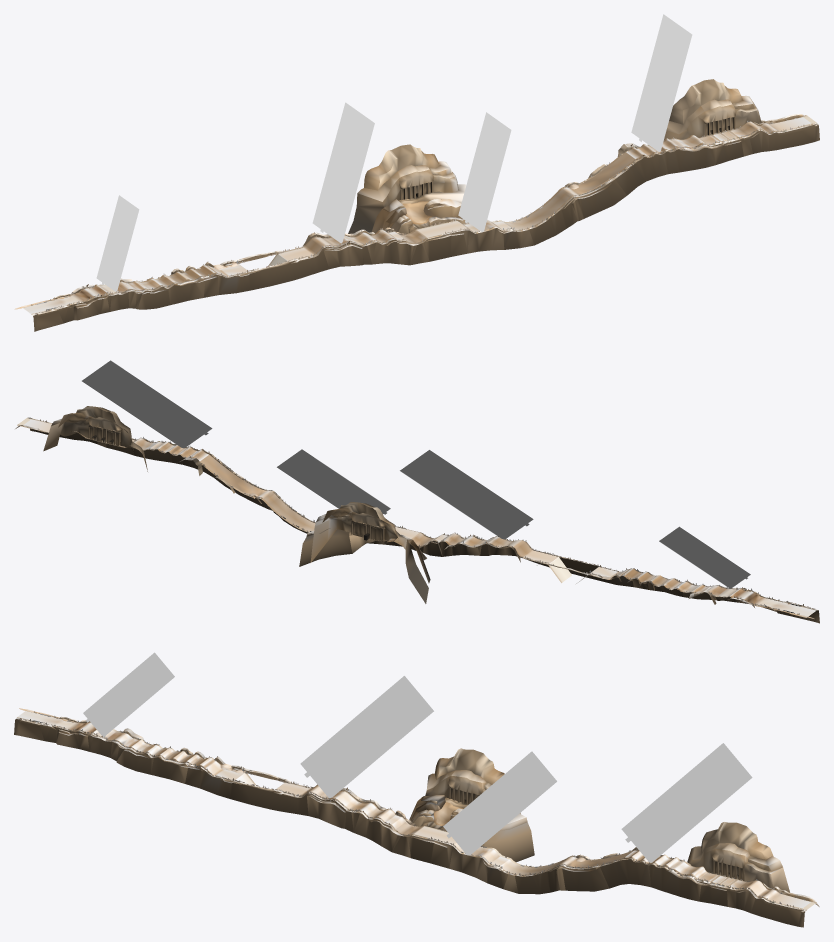
File: Desert_13.fbx
3 renders of one model, top to bottom at view 1: azimuth 30°, elevation 25°; view 2: azimuth 150°, elevation 25°; view 3: azimuth 330°, elevation 25°, orthographic.
Visible parts, largest first — view 1: Mountain_01, Light_01, Ground_01, Road_01, Tree_01, Ground_02; view 2: Light_01, Mountain_01, Ground_01, Road_01, Tree_01, Pattern_01; view 3: Mountain_01, Light_01, Ground_01, Road_01, Tree_01, Ground_02.
Part boxes in pixels (left/top/right/bottom): Mountain_01: left=32, top=79, right=819, bottom=331; Light_01: left=96, top=14, right=692, bottom=292; Ground_01: left=23, top=117, right=811, bottom=313; Road_01: left=31, top=115, right=816, bottom=314; Tree_01: left=31, top=118, right=804, bottom=314; Ground_02: left=14, top=184, right=578, bottom=309; Light_01: left=82, top=360, right=750, bottom=588; Mountain_01: left=15, top=406, right=819, bottom=623; Ground_01: left=23, top=419, right=815, bottom=616; Road_01: left=17, top=418, right=816, bottom=617; Tree_01: left=38, top=419, right=814, bottom=614; Pattern_01: left=148, top=441, right=750, bottom=599; Mountain_01: left=14, top=716, right=819, bottom=927; Light_01: left=83, top=652, right=752, bottom=862; Ground_01: left=18, top=711, right=810, bottom=908; Road_01: left=17, top=717, right=816, bottom=910; Tree_01: left=19, top=711, right=804, bottom=907; Ground_02: left=19, top=708, right=585, bottom=861.
Size of the model in its own units: 69312 by 13601 by 7120.
